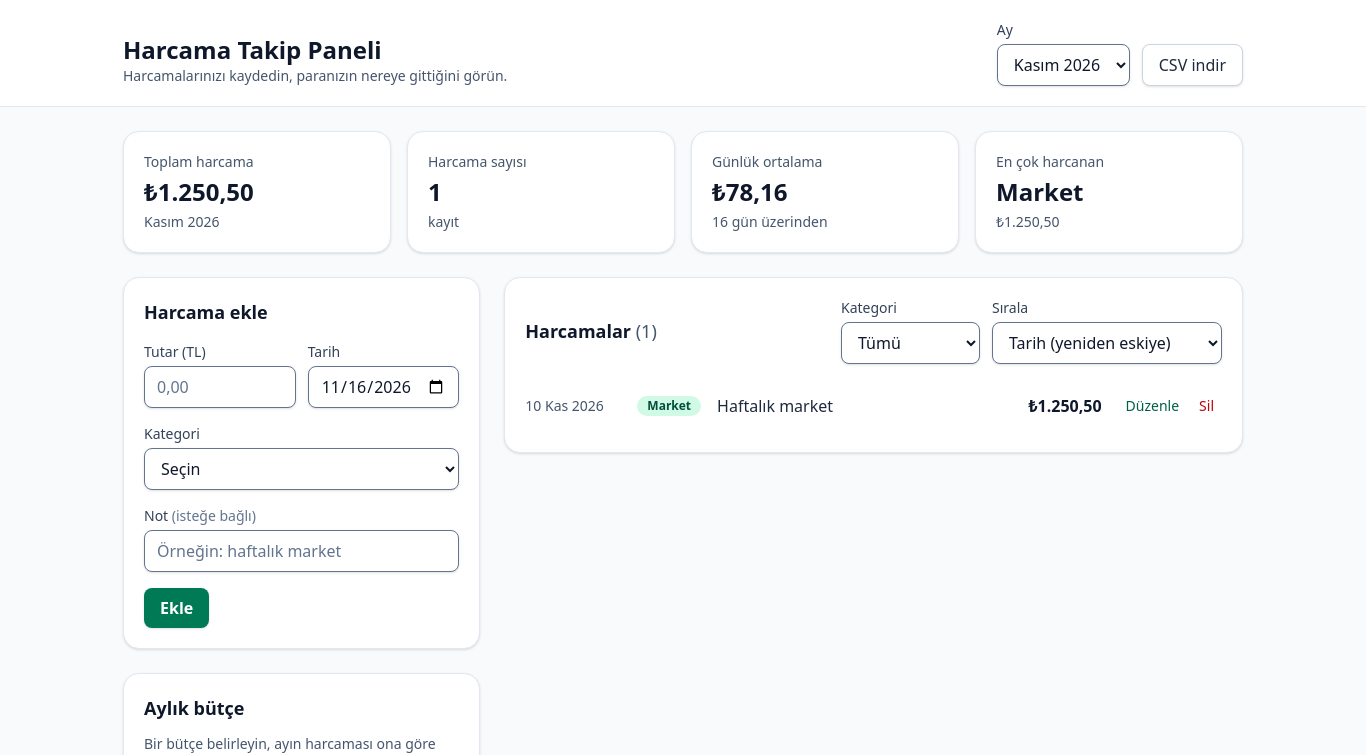
Test: editing and deleting › edits an expense in the form and saves the change
Click the button named "Market harcaması: düzenle" at point(1152, 406), box 1118,392 -> 1187,420
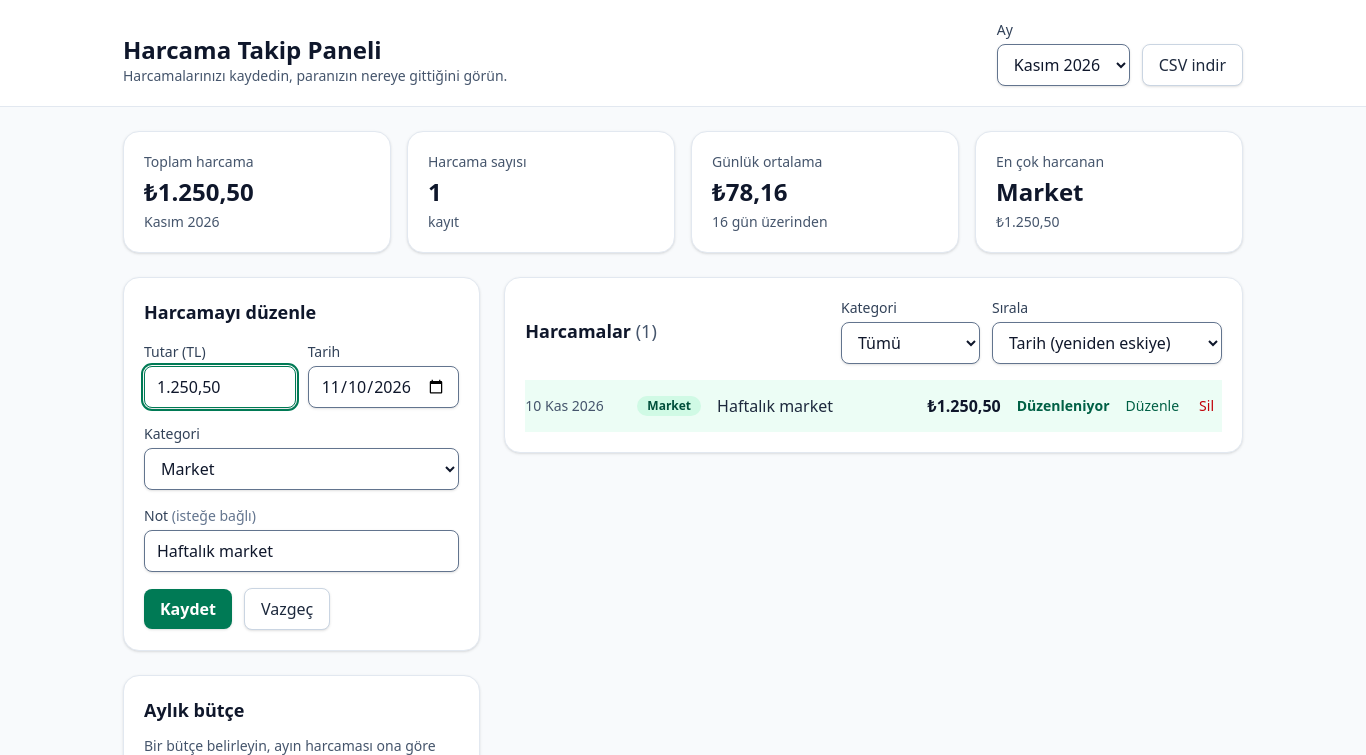
Result: the heading "Harcamayı düzenle" is shown at 144,300 -> 316,324
Result: the field labelled "Tutar (TL)" holds "1.250,50"
Replace the text in the field labelled "Tutar (TL)" with "1.300" at point(220, 387), box 144,366 -> 296,408
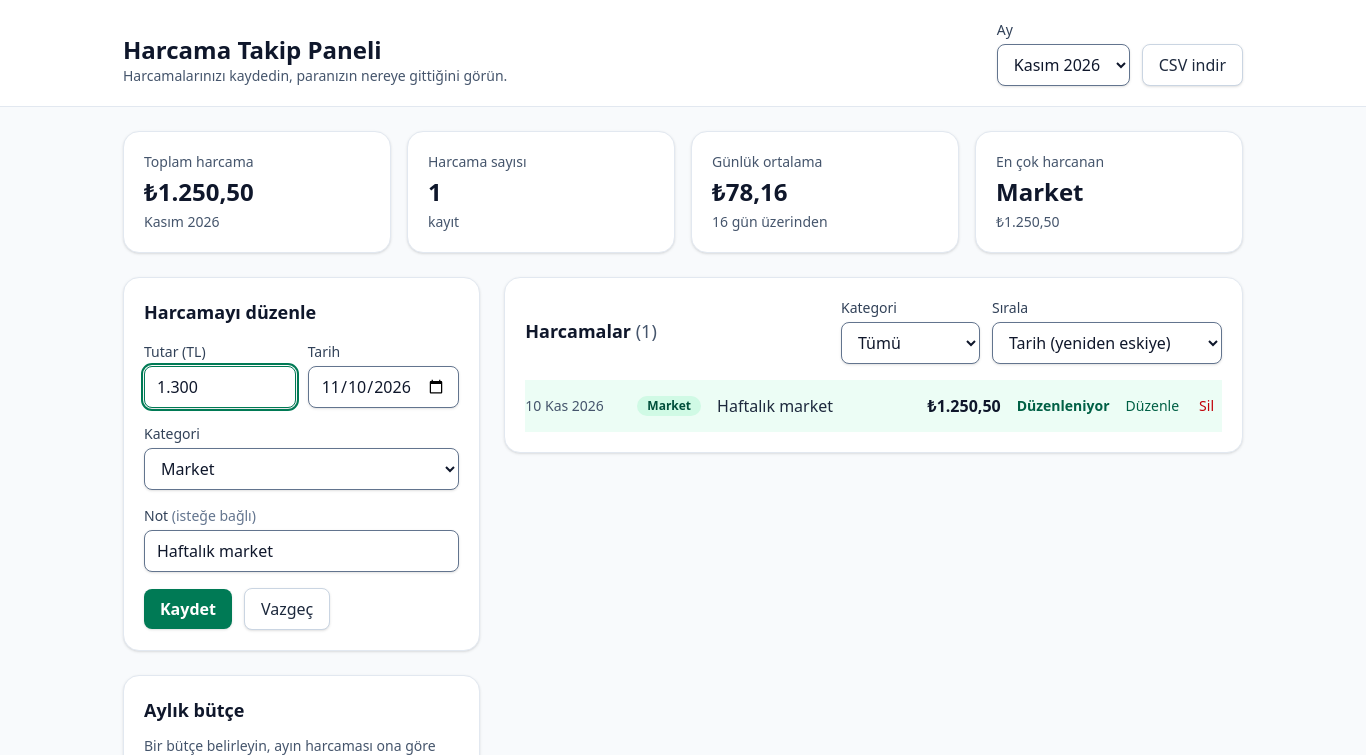
Click the button "Kaydet" at point(188, 609), box 144,589 -> 232,629
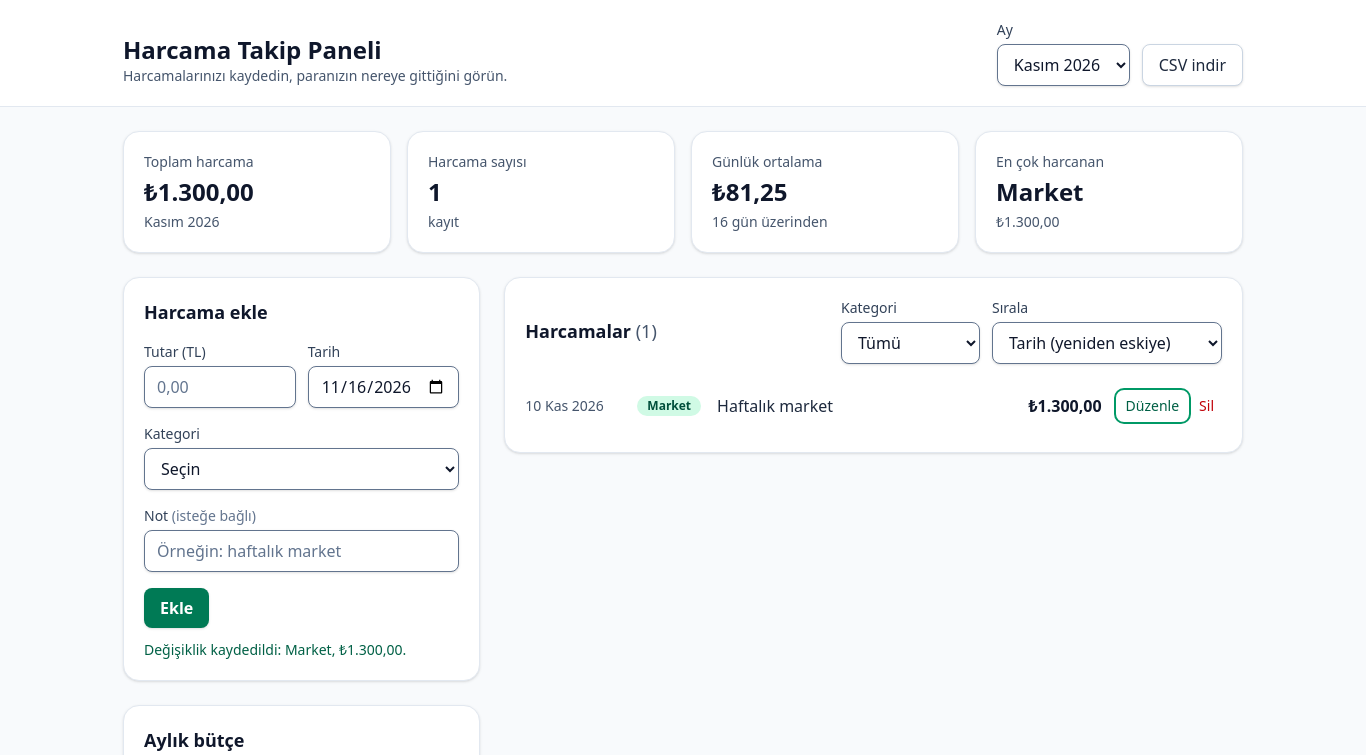
Result: the heading "Harcama ekle" is shown at 144,300 -> 268,324
Result: the message reads "Değişiklik kaydedildi: Market, ₺1.300,00." at 144,640 -> 406,659
